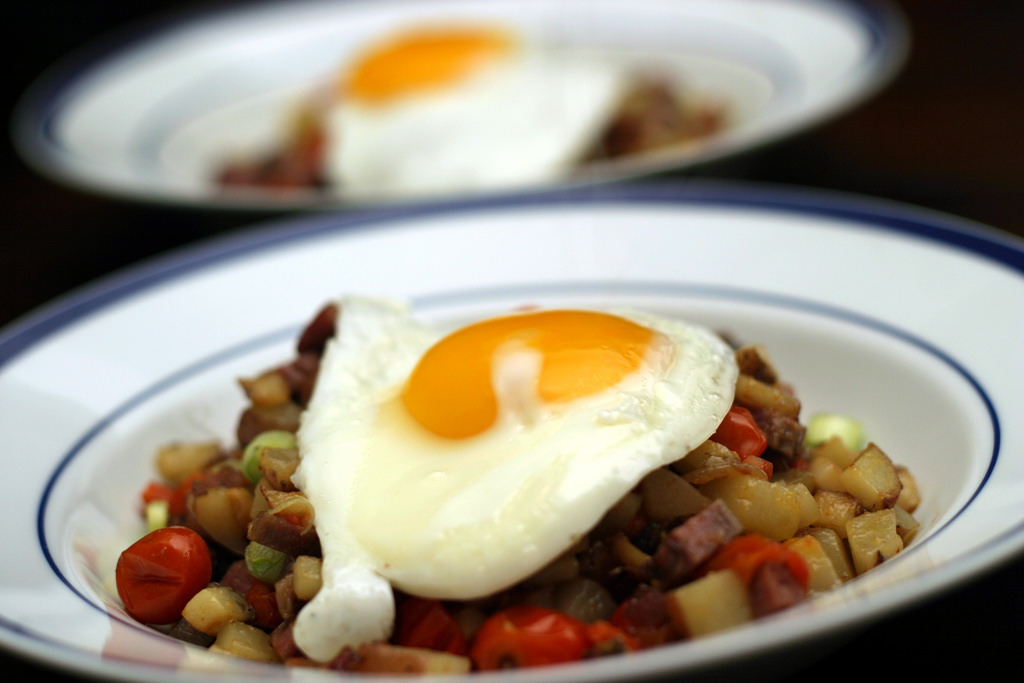fried egg: (296, 297, 675, 528)
